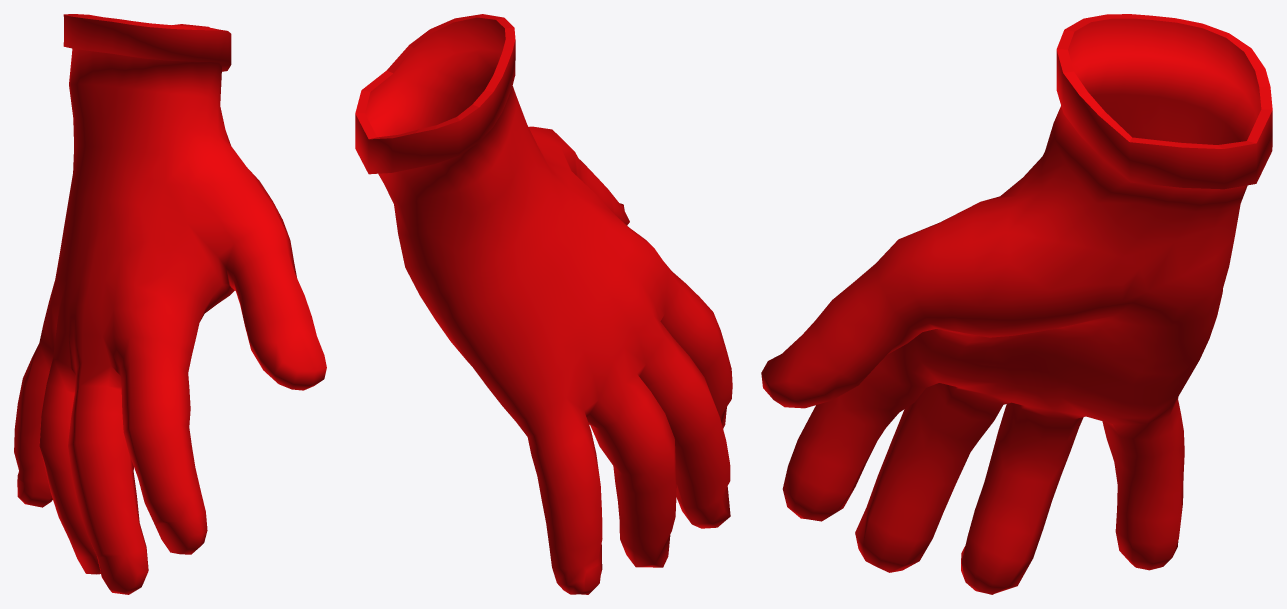
File: right_glove.glb
3 views of the same model, side by side, from view 1: azimuth 30°, elevation 25°; view 2: azimuth 150°, elevation 25°; view 3: azimuth 270°, elevation 25° (orthographic). The views are drawn at different scales.
Visible parts, largest first — view 1: GEO-body_male_realistic.001; view 2: GEO-body_male_realistic.001; view 3: GEO-body_male_realistic.001.
Part boxes in pixels (x1,y1,x2,y2): GEO-body_male_realistic.001: (14,14,326,594); GEO-body_male_realistic.001: (355,14,732,594); GEO-body_male_realistic.001: (761,14,1272,594).
Size of the model in its own units: 0.102 by 0.2135 by 0.1574.
